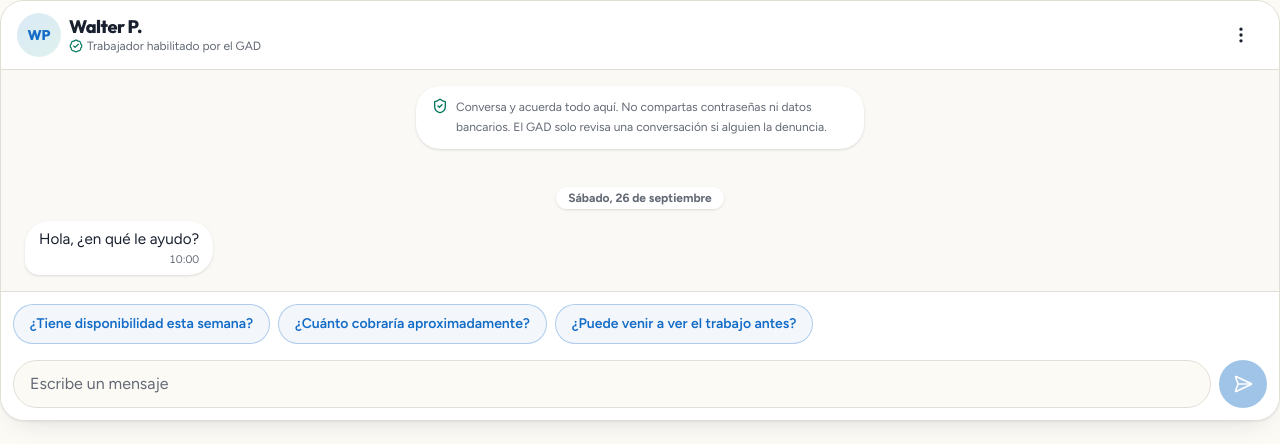
Test case: ChatThread › las respuestas sugeridas completan la caja sin enviar (el usuario decide)
Click the button "¿Tiene disponibilidad esta semana?".
click(142, 324)  # box [13,304,270,344]
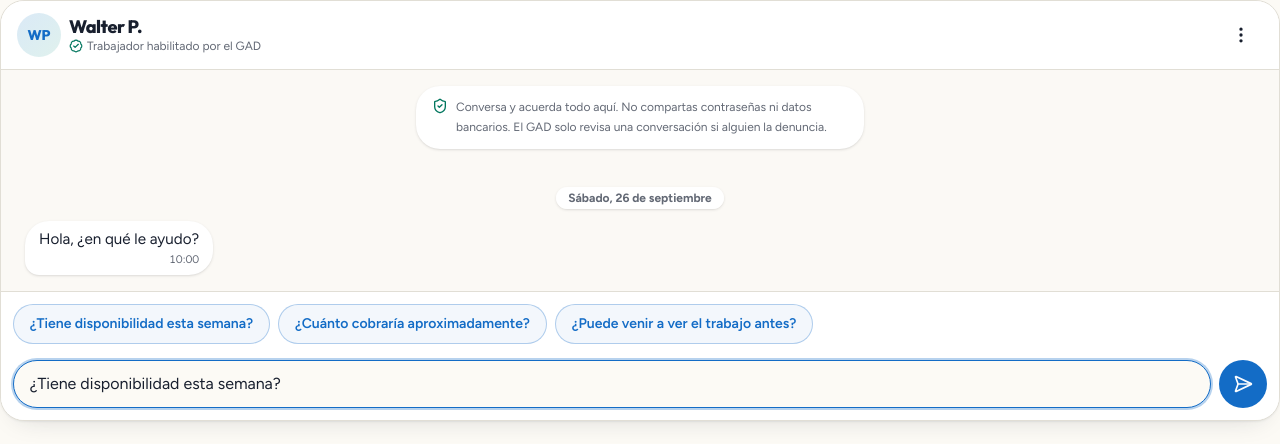
Now the text box named "Escribe un mensaje" holds "¿Tiene disponibilidad esta semana?", box [13,360,1211,408]
